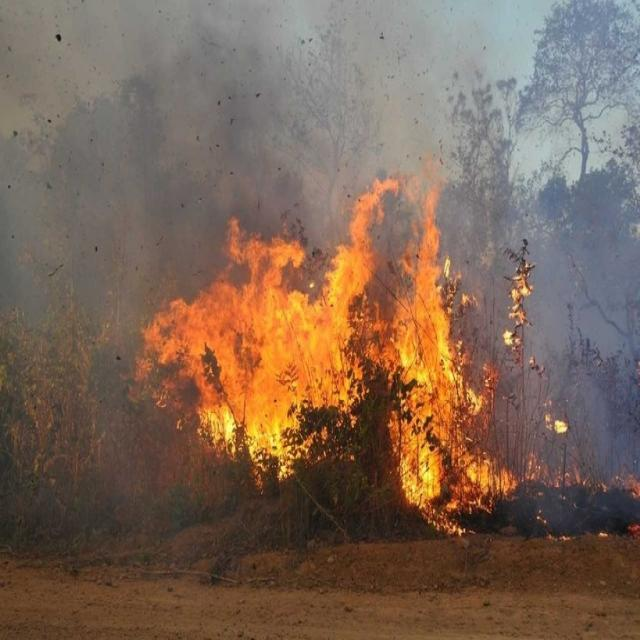Fire: (147, 174, 500, 498)
